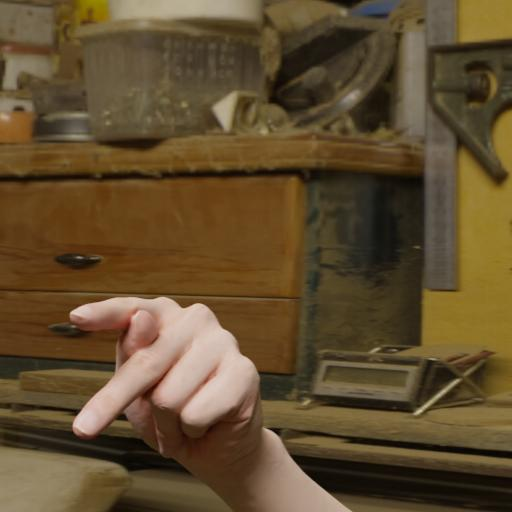P: (57, 271, 286, 485)
